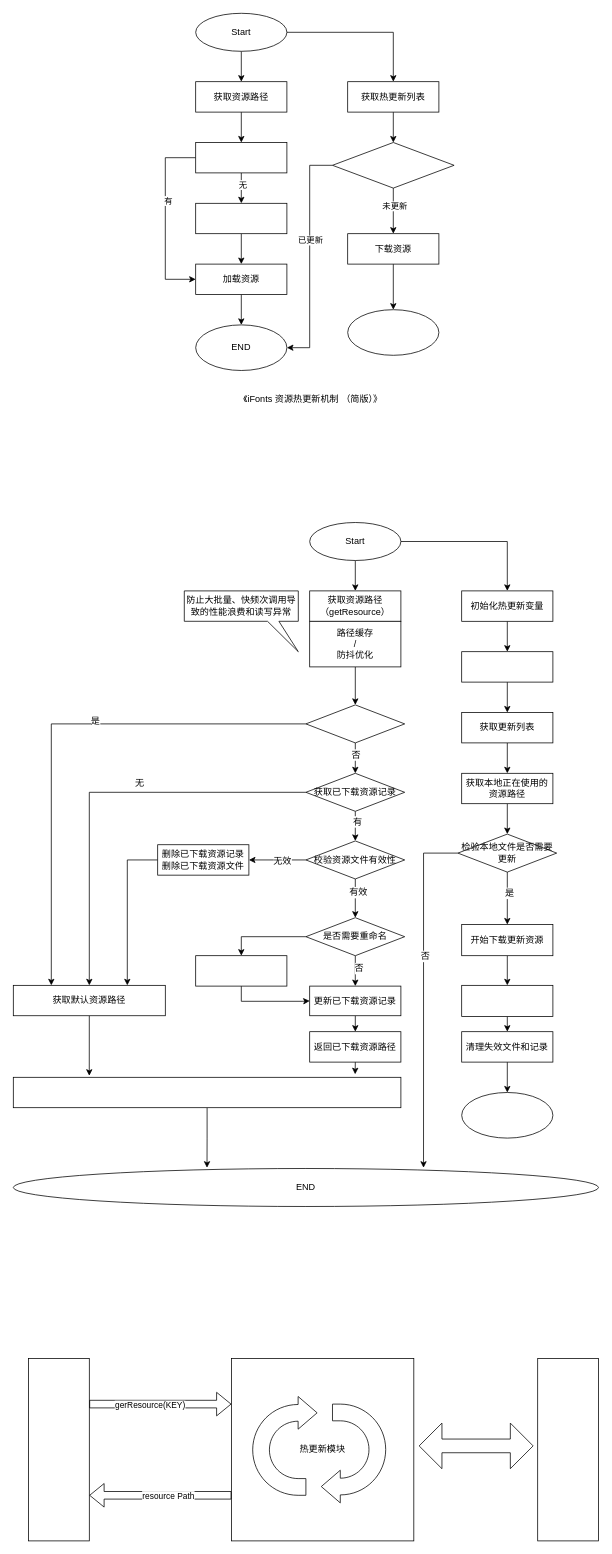
Some shapes in this 612 by 1554 pixel diagram are drawn without their labels. Here are the shapes that lost their labels. From the top down, the centre of each, then its label:
point 241,157: 获取已下载资源
point 393,165: 校验本地资源是否已更新
point 241,218: 获取安装目录资源
point 393,332: 等待下次启动
point 507,666: 延迟5000ms
point 355,723: 是否手动禁止热更新
point 241,970: 重命名
point 507,1000: 添加已下载资源记录
point 207,1092: 返沪资源路径
point 507,1115: 等待客户端重启
point 58,1449: 资源请求方
point 475,1445: checkAndUpdate
point 567,1449: 服务器
